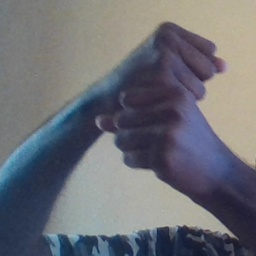G: (92, 20, 227, 178)
